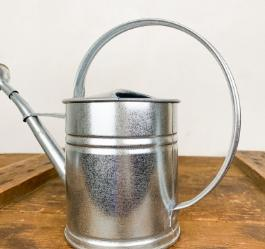ARROSOIR: (0, 11, 242, 249)
